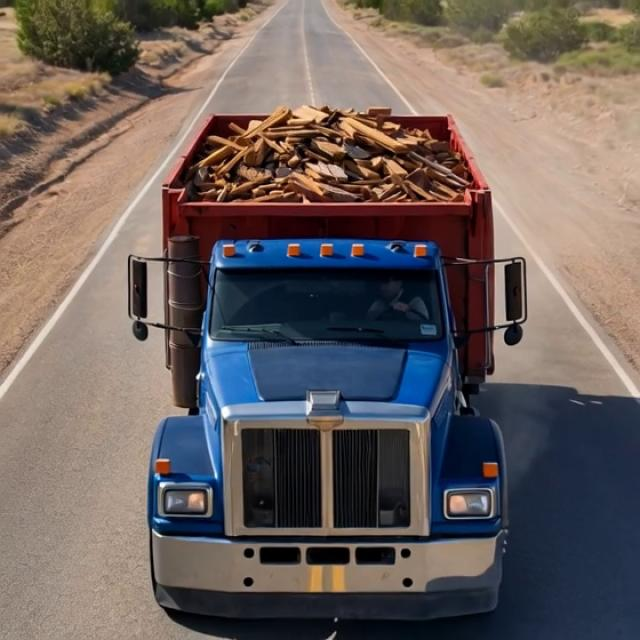trailer: (159, 107, 502, 218)
truck: (120, 81, 526, 620)
